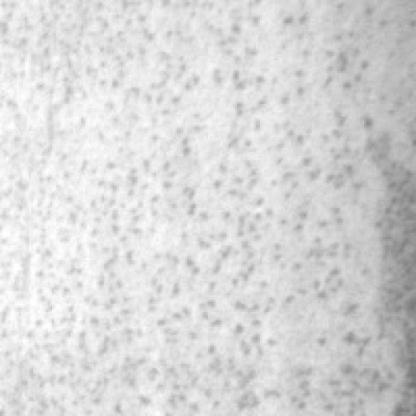pitted_surface: (6, 0, 379, 414), (352, 110, 414, 412)
